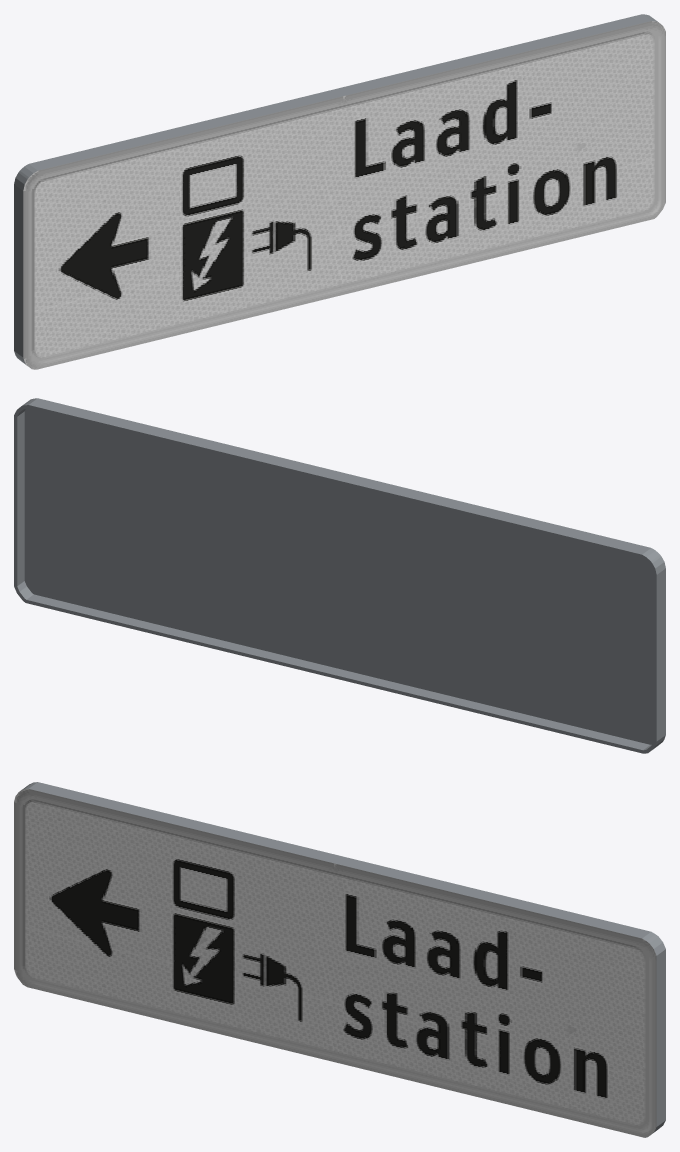
3 renders of one model, top to bottom at view 1: azimuth 30°, elevation 25°; view 2: azimuth 150°, elevation 25°; view 3: azimuth 330°, elevation 25°, orthographic.
Parts seen in each view (by area): view 1: cat_e932b88488ce1a4f; view 2: cat_e932b88488ce1a4f; view 3: cat_e932b88488ce1a4f.
Boxes of the visible parts, x1,y1,x2,y2 form: cat_e932b88488ce1a4f: (14, 14, 665, 369); cat_e932b88488ce1a4f: (14, 398, 665, 753); cat_e932b88488ce1a4f: (14, 782, 665, 1137).
Bounding box in the file's own units: 0.6 × 0.015 × 0.1773.
2 materials, 1 textured.
